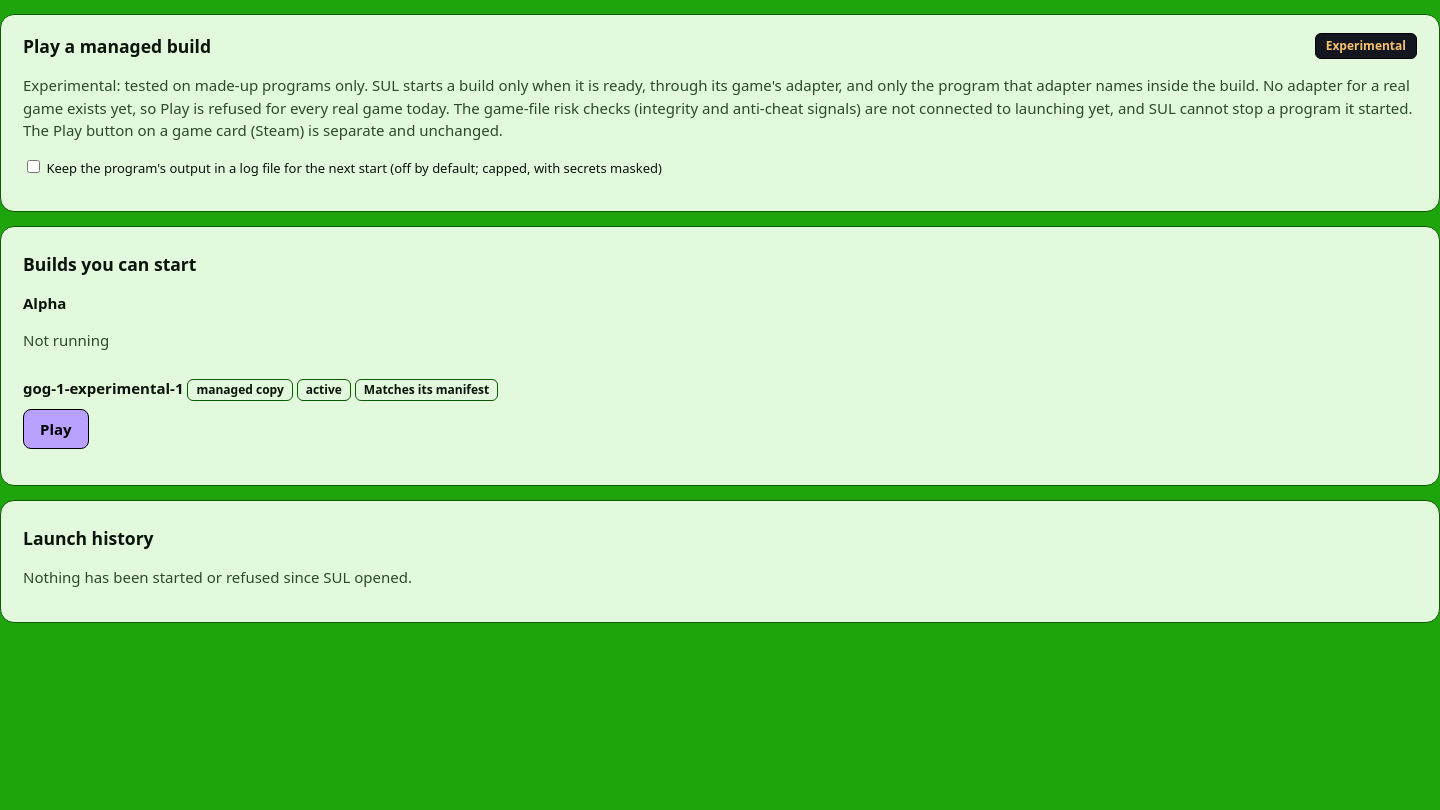
Test: following a running game › a failed exit is shown with its code and without a guessed cause
Click the button "Play" at (56, 429), box [23, 409, 89, 449]
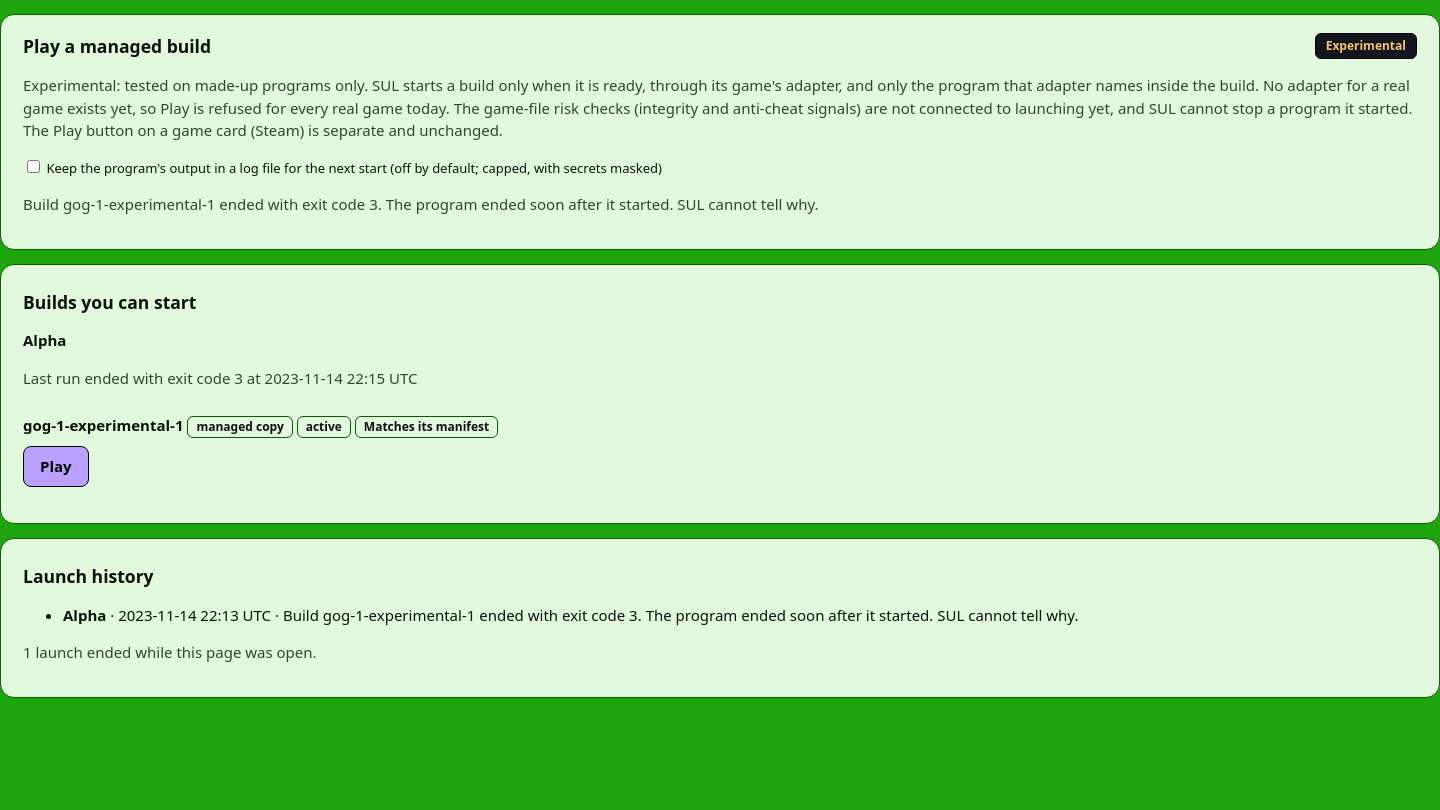
Expected: the element named "Launch history" shows "ended with exit code 3. The program ended soon after it started. SUL cannot tell why.", [283, 605, 1078, 625]
